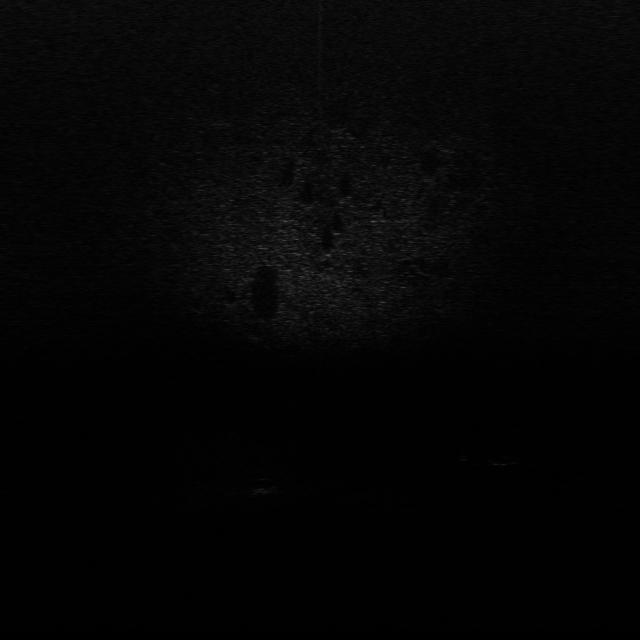ball: (244, 473, 280, 497)
human body: (454, 444, 538, 471)
